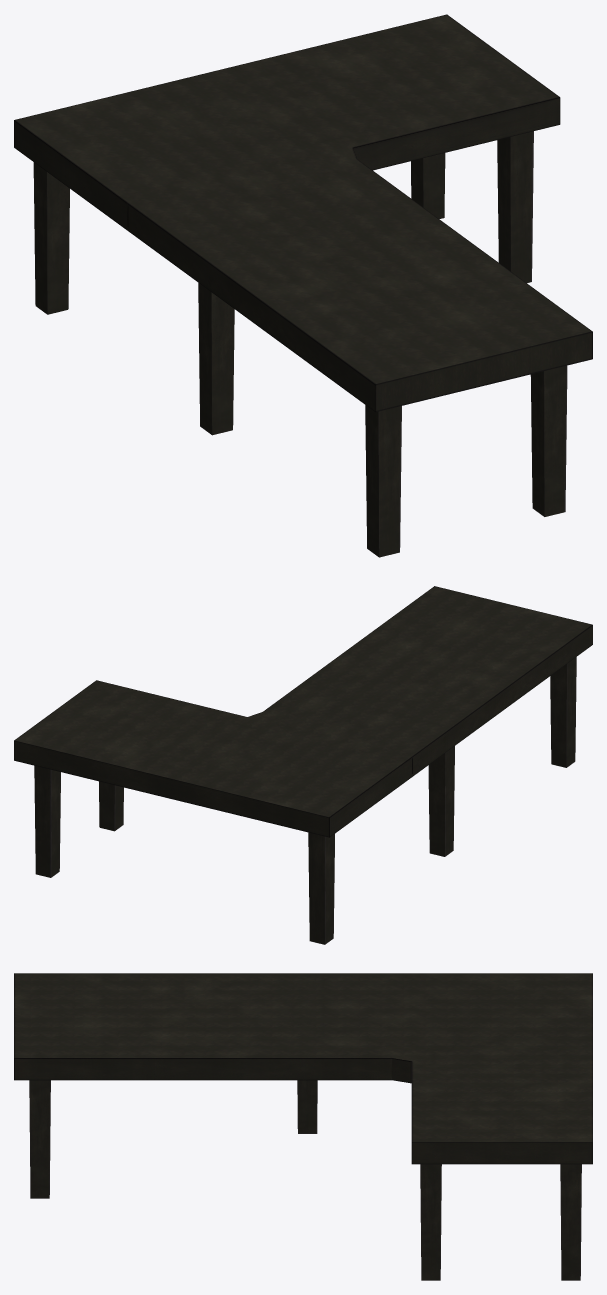
The model's file is Table2.fbx.
The picture shows the model from 3 angles, top to bottom: view 1: azimuth 30°, elevation 25°; view 2: azimuth 150°, elevation 25°; view 3: azimuth 270°, elevation 25°; orthographic projection. The views are drawn at different scales.
Parts seen in each view (by area): view 1: Table2; view 2: Table2; view 3: Table2.
Boxes of the visible parts, box(x1,y1,x2,y2) form: Table2: box(14, 14, 592, 557); Table2: box(14, 586, 592, 944); Table2: box(14, 973, 592, 1280).
Size of the model in its own units: 362 by 147 by 524.
1 material, 1 textured.
